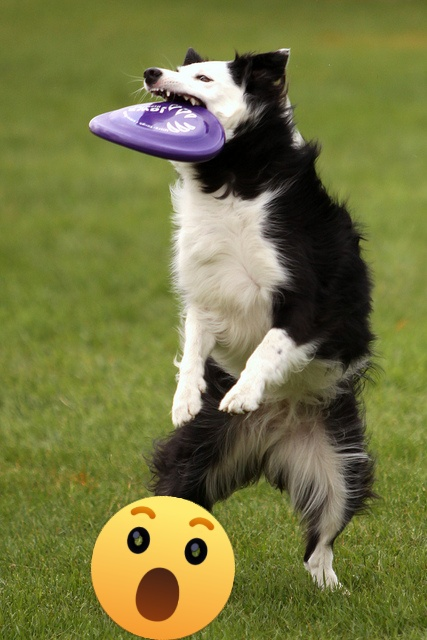wow: (91, 496, 235, 640)
